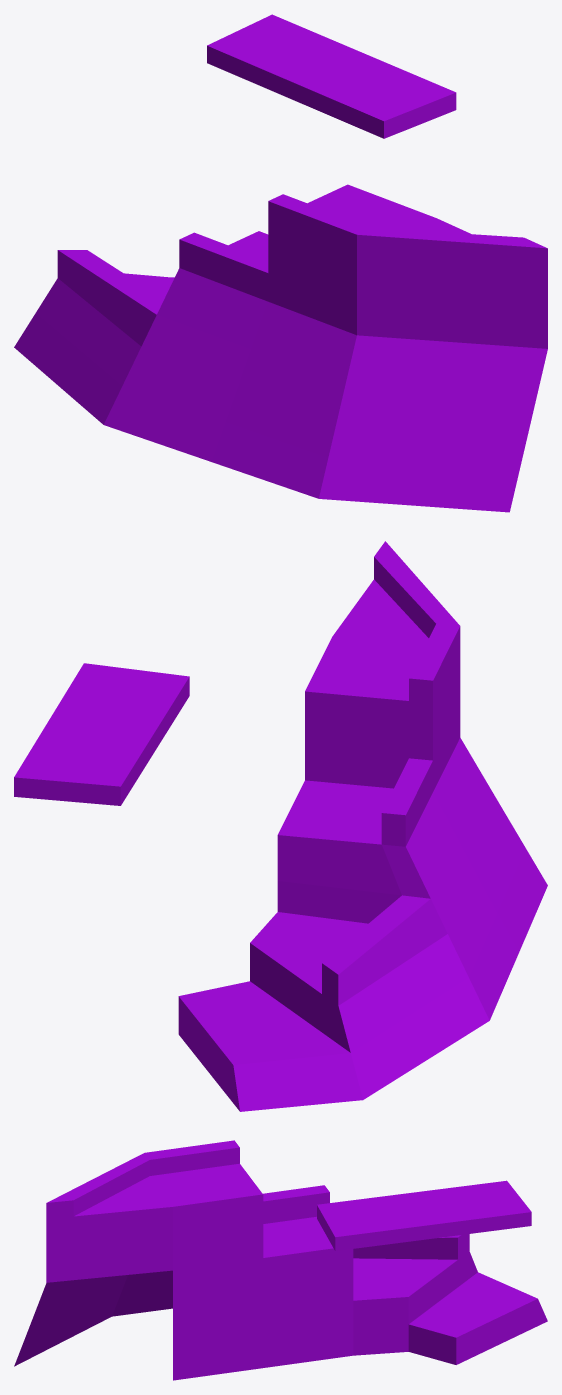
Rendered from Ruina1.fbx.
3 views of the same model, one above another, from view 1: azimuth 30°, elevation 25°; view 2: azimuth 150°, elevation 25°; view 3: azimuth 270°, elevation 25° (orthographic). The views are drawn at different scales.
Visible parts, largest first — view 1: Ruina1; view 2: Ruina1; view 3: Ruina1.
Boxes of the visible parts, x1=… form: Ruina1: x1=14, y1=14, x2=547, y2=512; Ruina1: x1=14, y1=541, x2=547, y2=1111; Ruina1: x1=14, y1=1140, x2=547, y2=1380.
Bounding box in the file's own units: 1398 × 900 × 2264.
